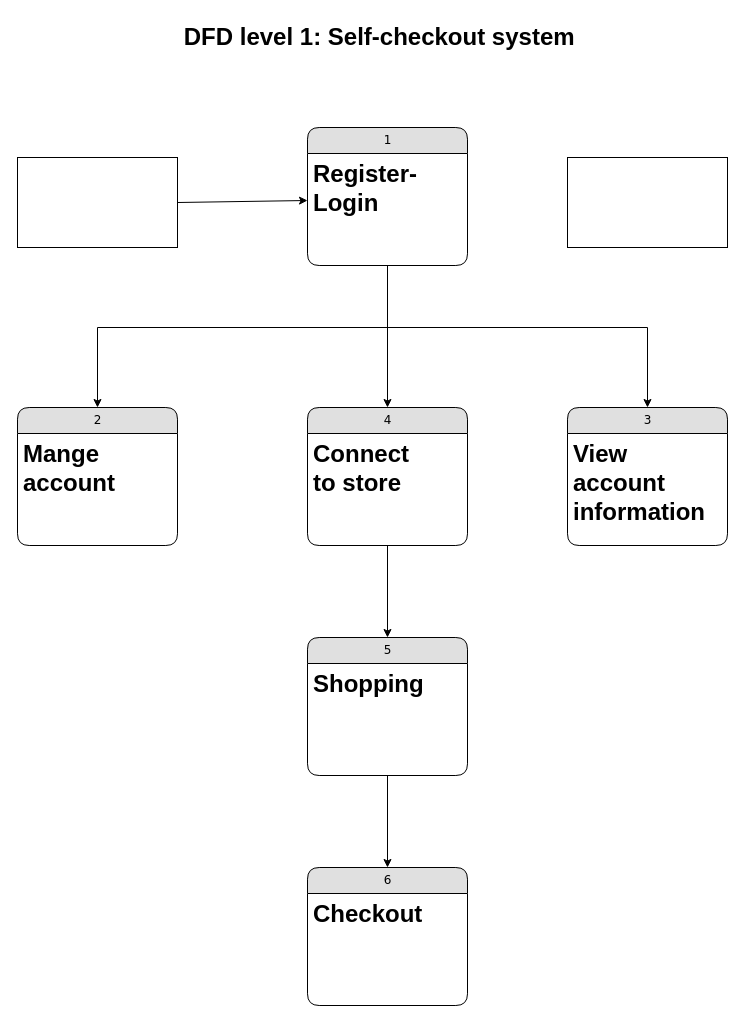
The diagram is 745 pixels wide and 1023 high, and some of its shapes have lost their labels. Each missing label, with the box of its shape:
Costumer: (16, 156, 178, 248)
Store application: (566, 156, 728, 248)
